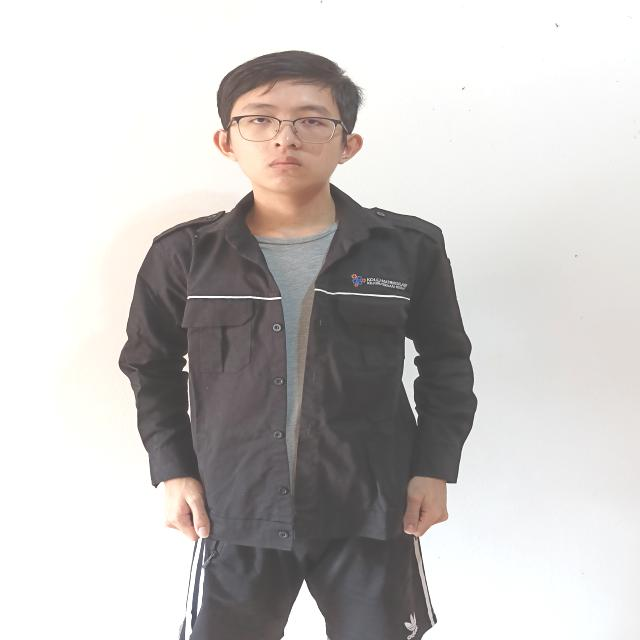person_with_labcoat: (120, 52, 476, 640)
